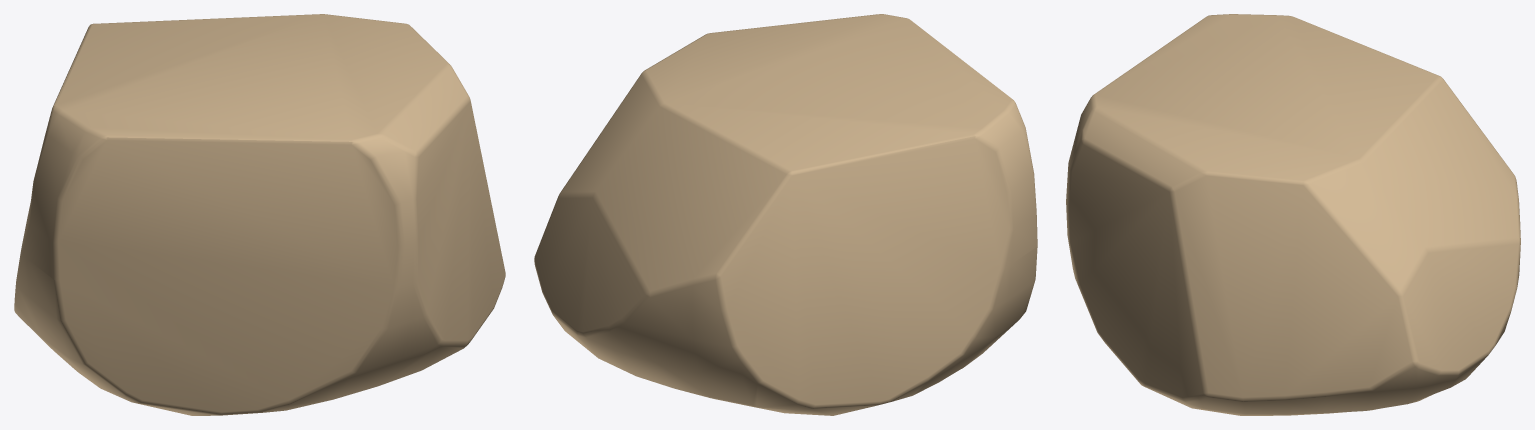
Rendered from rock_cobble_03.glb.
The picture shows the model from 3 angles, left to right: view 1: azimuth 30°, elevation 25°; view 2: azimuth 150°, elevation 25°; view 3: azimuth 270°, elevation 25°; orthographic projection. The views are drawn at different scales.
Visible parts, largest first — view 1: rock_cobble_03; view 2: rock_cobble_03; view 3: rock_cobble_03.
Boxes of the visible parts, bbox=[...] form: rock_cobble_03: bbox=[14, 14, 505, 415]; rock_cobble_03: bbox=[534, 14, 1037, 415]; rock_cobble_03: bbox=[1066, 14, 1520, 415].
Bounding box in the file's own units: 2.5 × 1.62 × 2.44.
